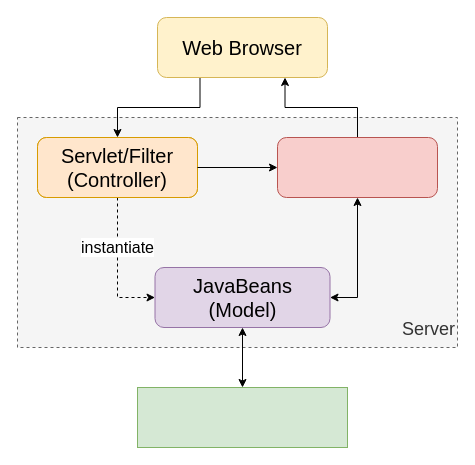
Image size: 475x465. Some labels were removed from this diagram. Each missing label, with the centre of its shape:
Data Sources / Databases: (x=242, y=417)
JSP Pages (View): (x=357, y=167)
